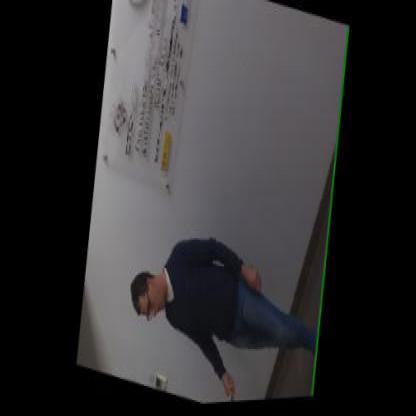knife: (222, 371, 238, 399)
